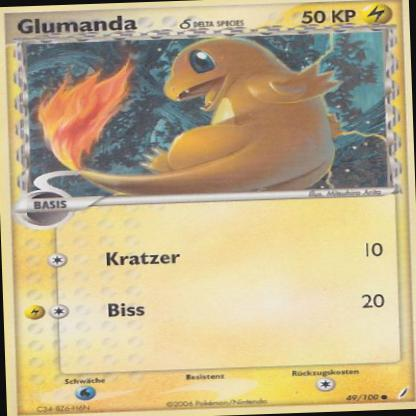Charmander: (54, 34, 350, 199)
